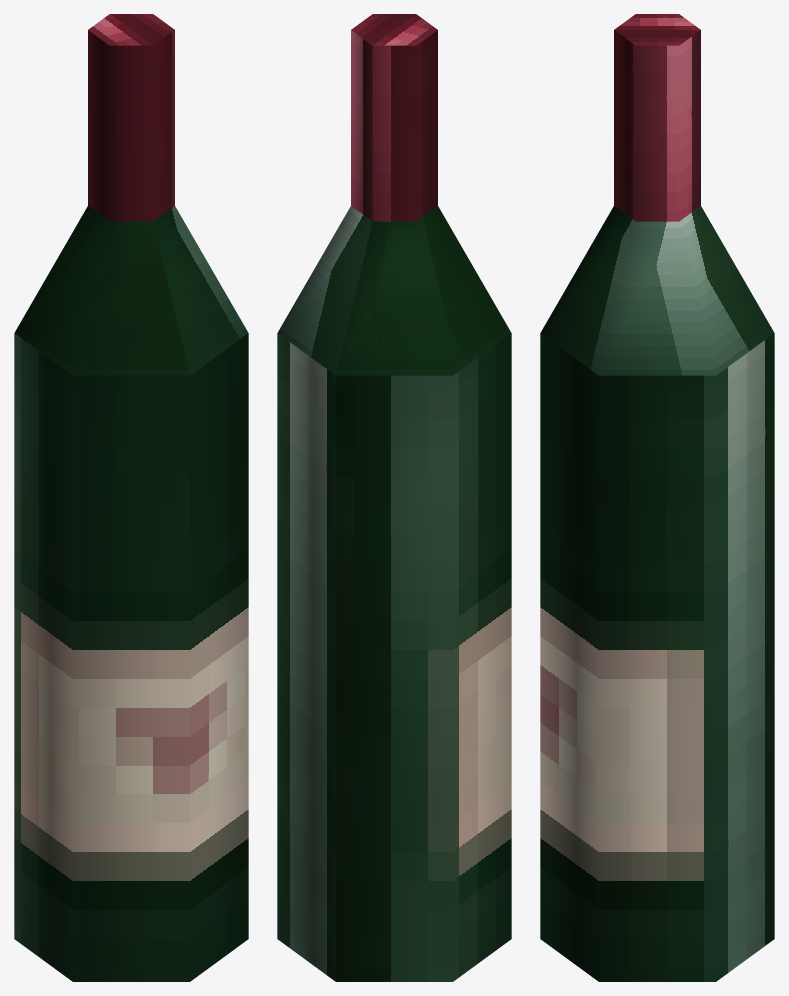
Rendered from wine-bottle.obj.
3 views of the same model, side by side, from view 1: azimuth 30°, elevation 25°; view 2: azimuth 150°, elevation 25°; view 3: azimuth 270°, elevation 25° (orthographic).
Parts seen in each view (by area): view 1: wine-bottle; view 2: wine-bottle; view 3: wine-bottle.
Part boxes in pixels (box(x1,y1,x2,y2)): wine-bottle: box(14, 14, 248, 981); wine-bottle: box(277, 14, 511, 981); wine-bottle: box(540, 14, 774, 981).
Bounding box in the file's own units: 0.0606 × 0.3 × 0.07.
1 material, 1 textured.
